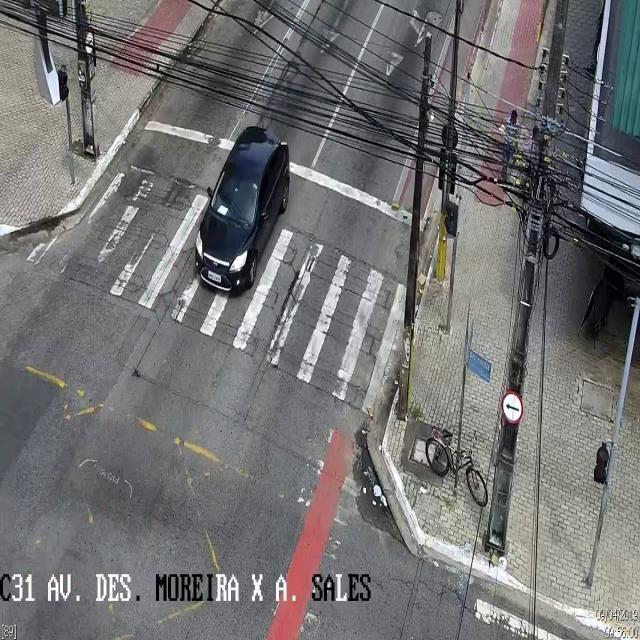Car: (193, 127, 288, 297)
